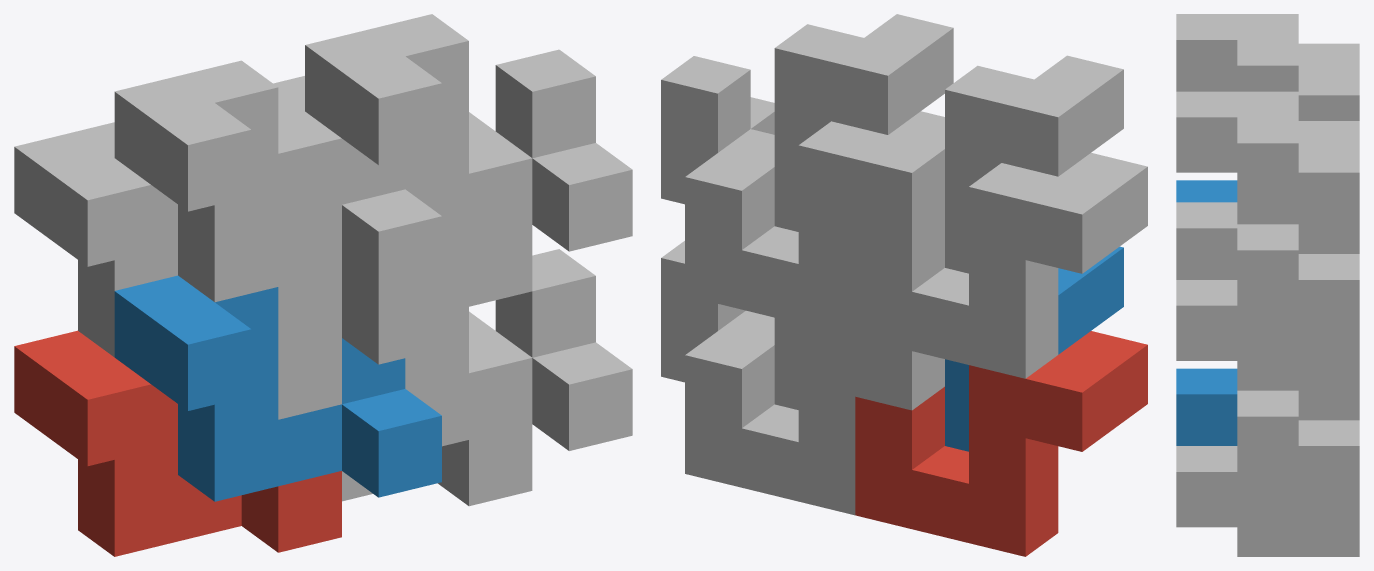
The model's file is tiling.obj.
The picture shows the model from 3 angles, left to right: view 1: azimuth 30°, elevation 25°; view 2: azimuth 150°, elevation 25°; view 3: azimuth 270°, elevation 25°; orthographic projection. The views are drawn at different scales.
Visible parts, largest first — view 1: copy_1_domain_8, copy_1_domain_4, copy_1_domain_2, copy_1_domain_6, copy_1_domain_1, copy_1_domain_3, copy_1_domain_7, copy_1_domain_5; view 2: copy_1_domain_3, copy_1_domain_1, copy_1_domain_7, copy_1_domain_8, copy_1_domain_5, copy_1_domain_4, copy_1_domain_6, copy_1_domain_2; view 3: copy_1_domain_8, copy_1_domain_7, copy_1_domain_4, copy_1_domain_6, copy_1_domain_5, copy_1_domain_2, copy_1_domain_3.
Part boxes in pixels (box(x1,y1,x2,y2)): copy_1_domain_8: box(305, 14, 632, 251); copy_1_domain_4: box(114, 60, 441, 302); copy_1_domain_2: box(114, 275, 441, 501); copy_1_domain_6: box(342, 240, 632, 450); copy_1_domain_1: box(14, 330, 341, 556); copy_1_domain_3: box(14, 122, 341, 357); copy_1_domain_7: box(273, 76, 532, 306); copy_1_domain_5: box(278, 311, 532, 506); copy_1_domain_3: box(855, 153, 1147, 378); copy_1_domain_1: box(855, 331, 1147, 556); copy_1_domain_7: box(685, 111, 944, 336); copy_1_domain_8: box(661, 14, 953, 231); copy_1_domain_5: box(685, 323, 944, 515); copy_1_domain_4: box(945, 55, 1123, 273); copy_1_domain_6: box(661, 241, 798, 409); copy_1_domain_2: box(945, 246, 1123, 451); copy_1_domain_8: box(1176, 91, 1298, 360); copy_1_domain_7: box(1237, 121, 1359, 390); copy_1_domain_4: box(1176, 14, 1298, 279); copy_1_domain_6: box(1176, 390, 1298, 527); copy_1_domain_5: box(1237, 390, 1359, 556); copy_1_domain_2: box(1176, 180, 1237, 445); copy_1_domain_3: box(1298, 43, 1359, 120).
Bounding box in the file's own units: 8 × 7 × 3.
